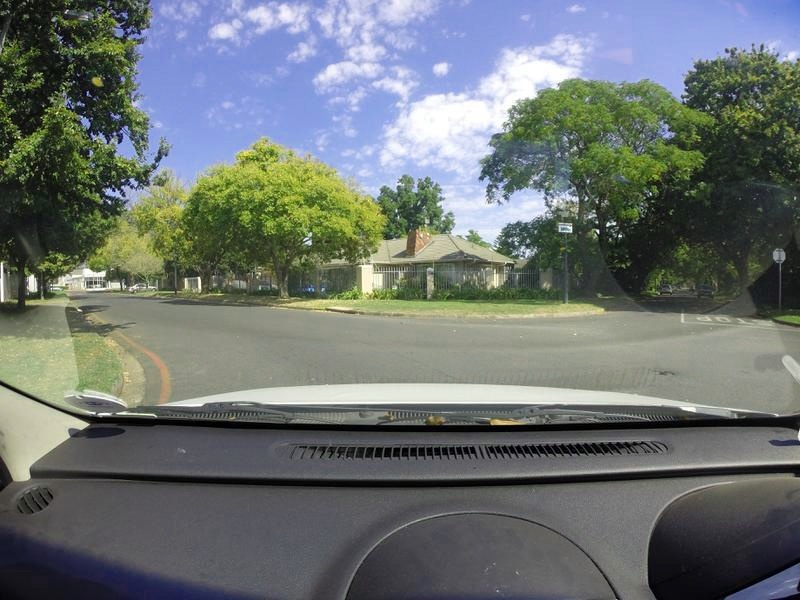pothole: (658, 370, 672, 376)
